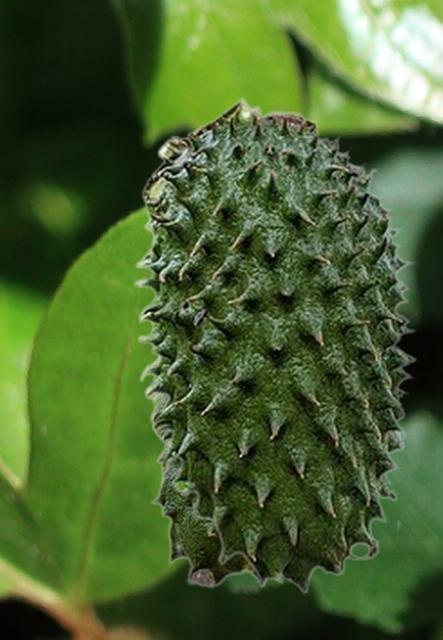guyabano: (133, 96, 417, 593), (148, 162, 379, 588)
